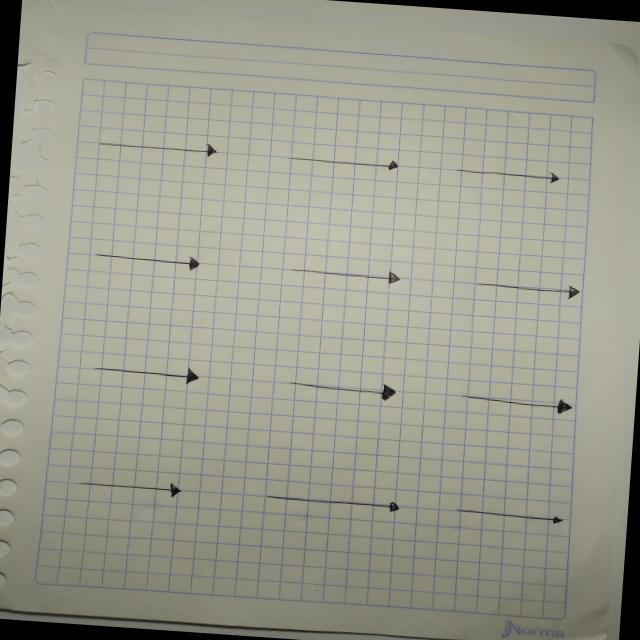arrow_line_right: (250, 482, 422, 522), (264, 362, 406, 410), (270, 252, 412, 296), (75, 352, 222, 394), (90, 124, 236, 166), (444, 496, 586, 538), (444, 382, 576, 423), (456, 262, 584, 304), (80, 240, 217, 279), (68, 463, 189, 507), (275, 142, 412, 179), (437, 156, 572, 192)
